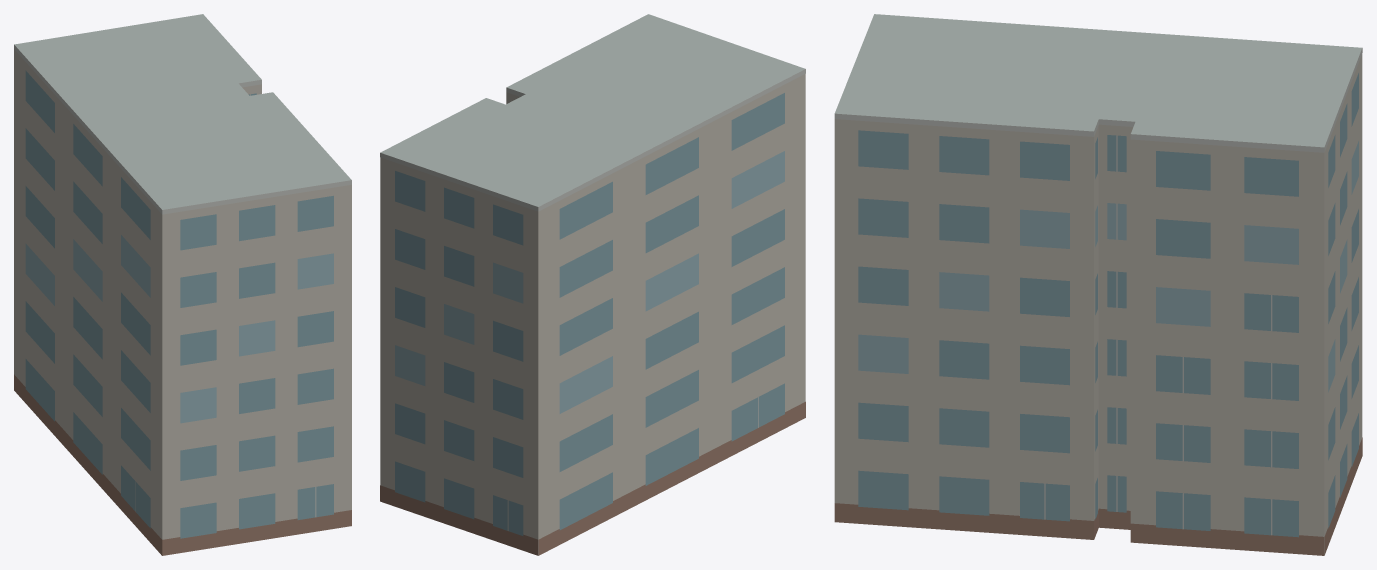
Rendered from survey-upis-32751871.glb.
The picture shows the model from 3 angles, left to right: view 1: azimuth 30°, elevation 25°; view 2: azimuth 150°, elevation 25°; view 3: azimuth 270°, elevation 25°; orthographic projection. The views are drawn at different scales.
Parts seen in each view (by area): view 1: survey-upis-32751871.tmp; view 2: survey-upis-32751871.tmp; view 3: survey-upis-32751871.tmp.
Boxes of the visible parts, bbox=[...] form: survey-upis-32751871.tmp: bbox=[14, 14, 351, 555]; survey-upis-32751871.tmp: bbox=[380, 14, 805, 555]; survey-upis-32751871.tmp: bbox=[834, 14, 1362, 555].
Bounding box in the file's own units: 12.83 × 18.3 × 21.44.
